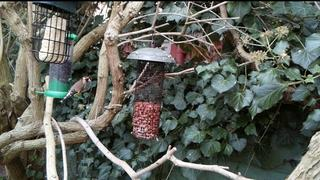goldfinch: (59, 76, 93, 105)
